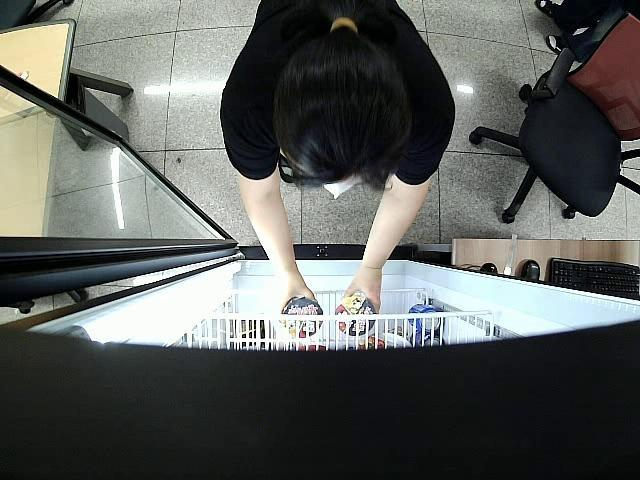08_buldak_S: (280, 297, 321, 336), (338, 297, 374, 333)
